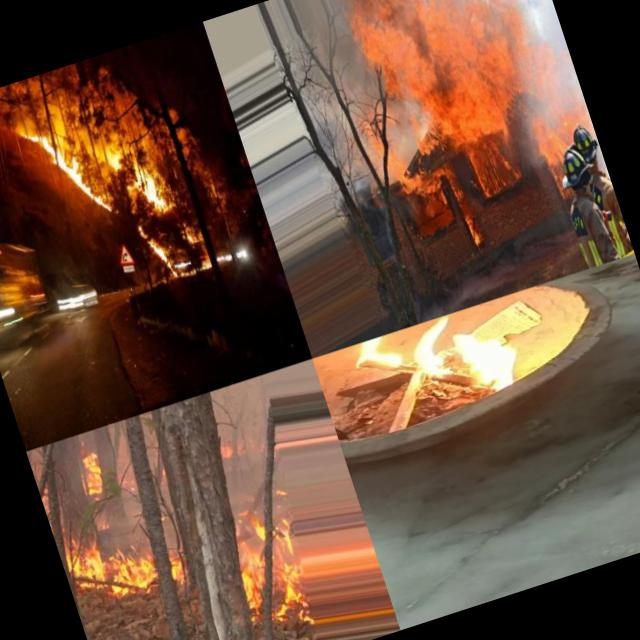fire: (348, 288, 562, 440), (350, 0, 534, 163), (63, 508, 183, 612), (34, 110, 118, 224), (215, 498, 287, 616), (102, 118, 176, 218), (489, 0, 557, 99), (393, 146, 466, 212), (33, 469, 74, 576), (467, 128, 527, 200), (136, 220, 180, 287), (72, 442, 118, 506), (527, 115, 573, 172), (360, 114, 401, 171), (462, 212, 484, 252)
smoke: (510, 0, 579, 88)
